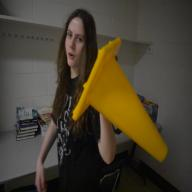cone: (72, 38, 168, 162)
